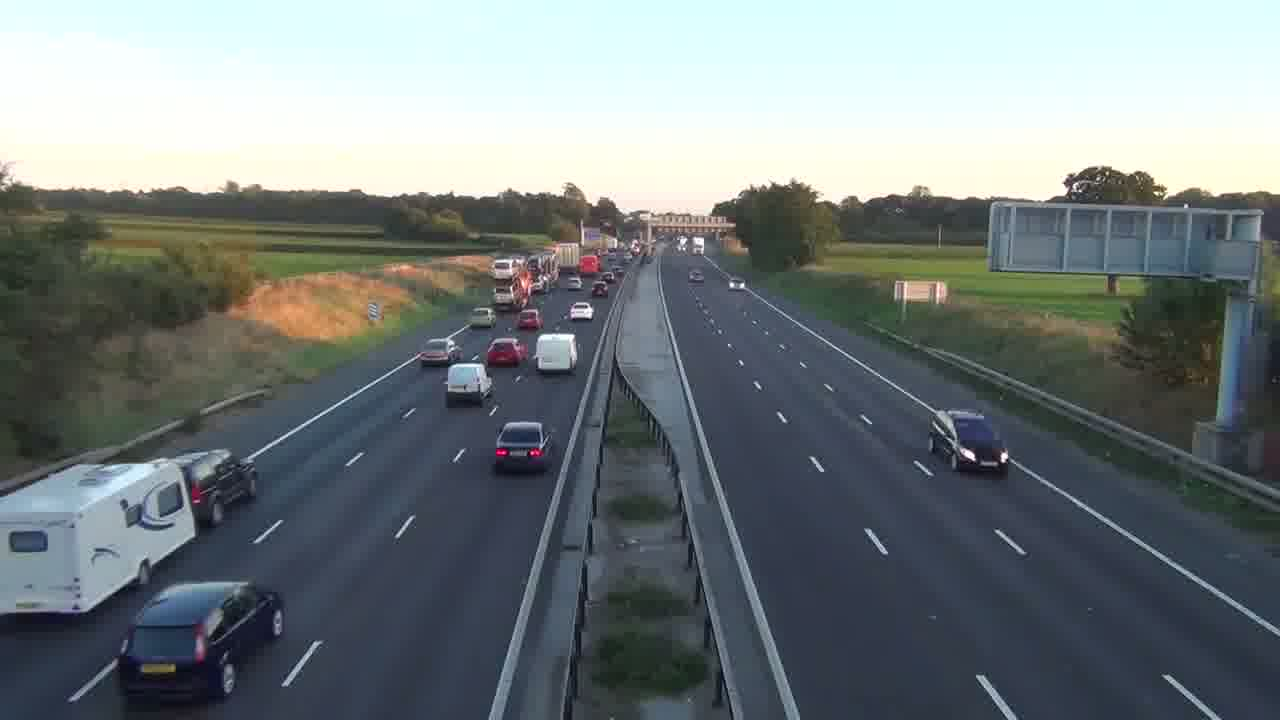car: (927, 407, 1010, 475), (493, 420, 551, 475), (445, 361, 493, 407), (485, 337, 527, 367), (416, 336, 457, 366), (467, 306, 496, 328), (516, 307, 542, 331), (688, 268, 705, 282)
truck: (0, 459, 198, 618), (116, 579, 286, 704)
